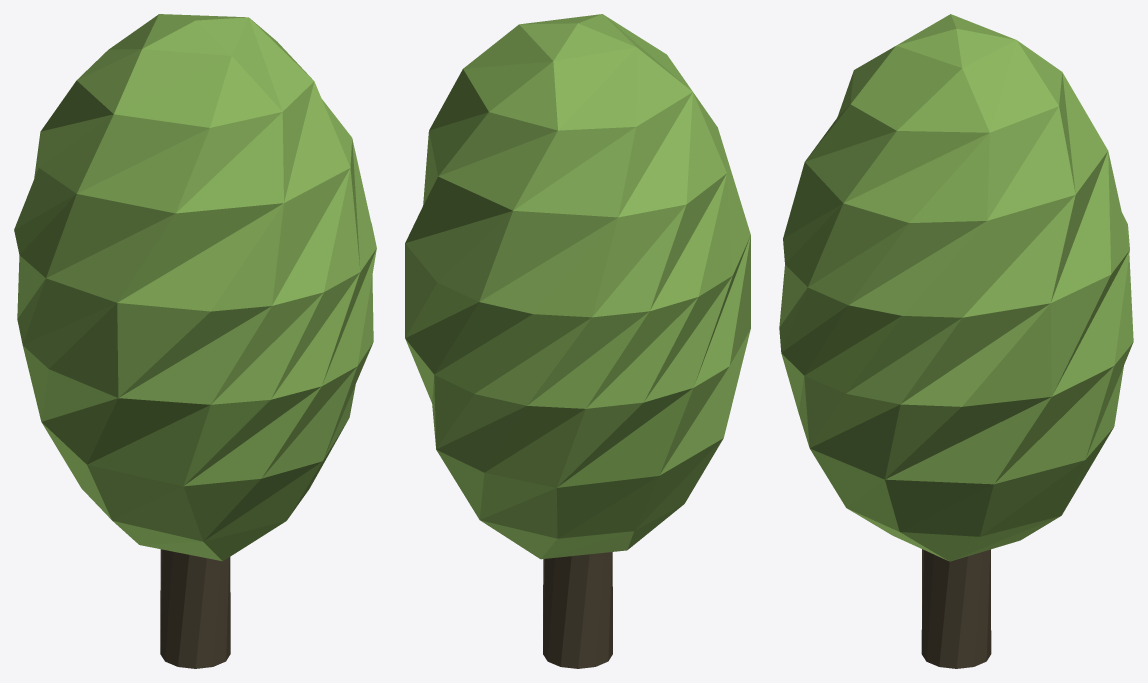
File: twisted_tree.dae
3 views of the same model, side by side, from view 1: azimuth 30°, elevation 25°; view 2: azimuth 150°, elevation 25°; view 3: azimuth 270°, elevation 25° (orthographic).
Visible parts, largest first — view 1: Kugel, Zylinder; view 2: Kugel, Zylinder; view 3: Kugel, Zylinder.
Part boxes in pixels (box(x1,y1,x2,y2)): Kugel: box(14, 14, 376, 561); Zylinder: box(160, 549, 230, 668); Kugel: box(405, 14, 750, 559); Zylinder: box(543, 552, 612, 668); Kugel: box(779, 14, 1133, 561); Zylinder: box(921, 549, 991, 668).
Size of the model in its own units: 190 by 376 by 193.
